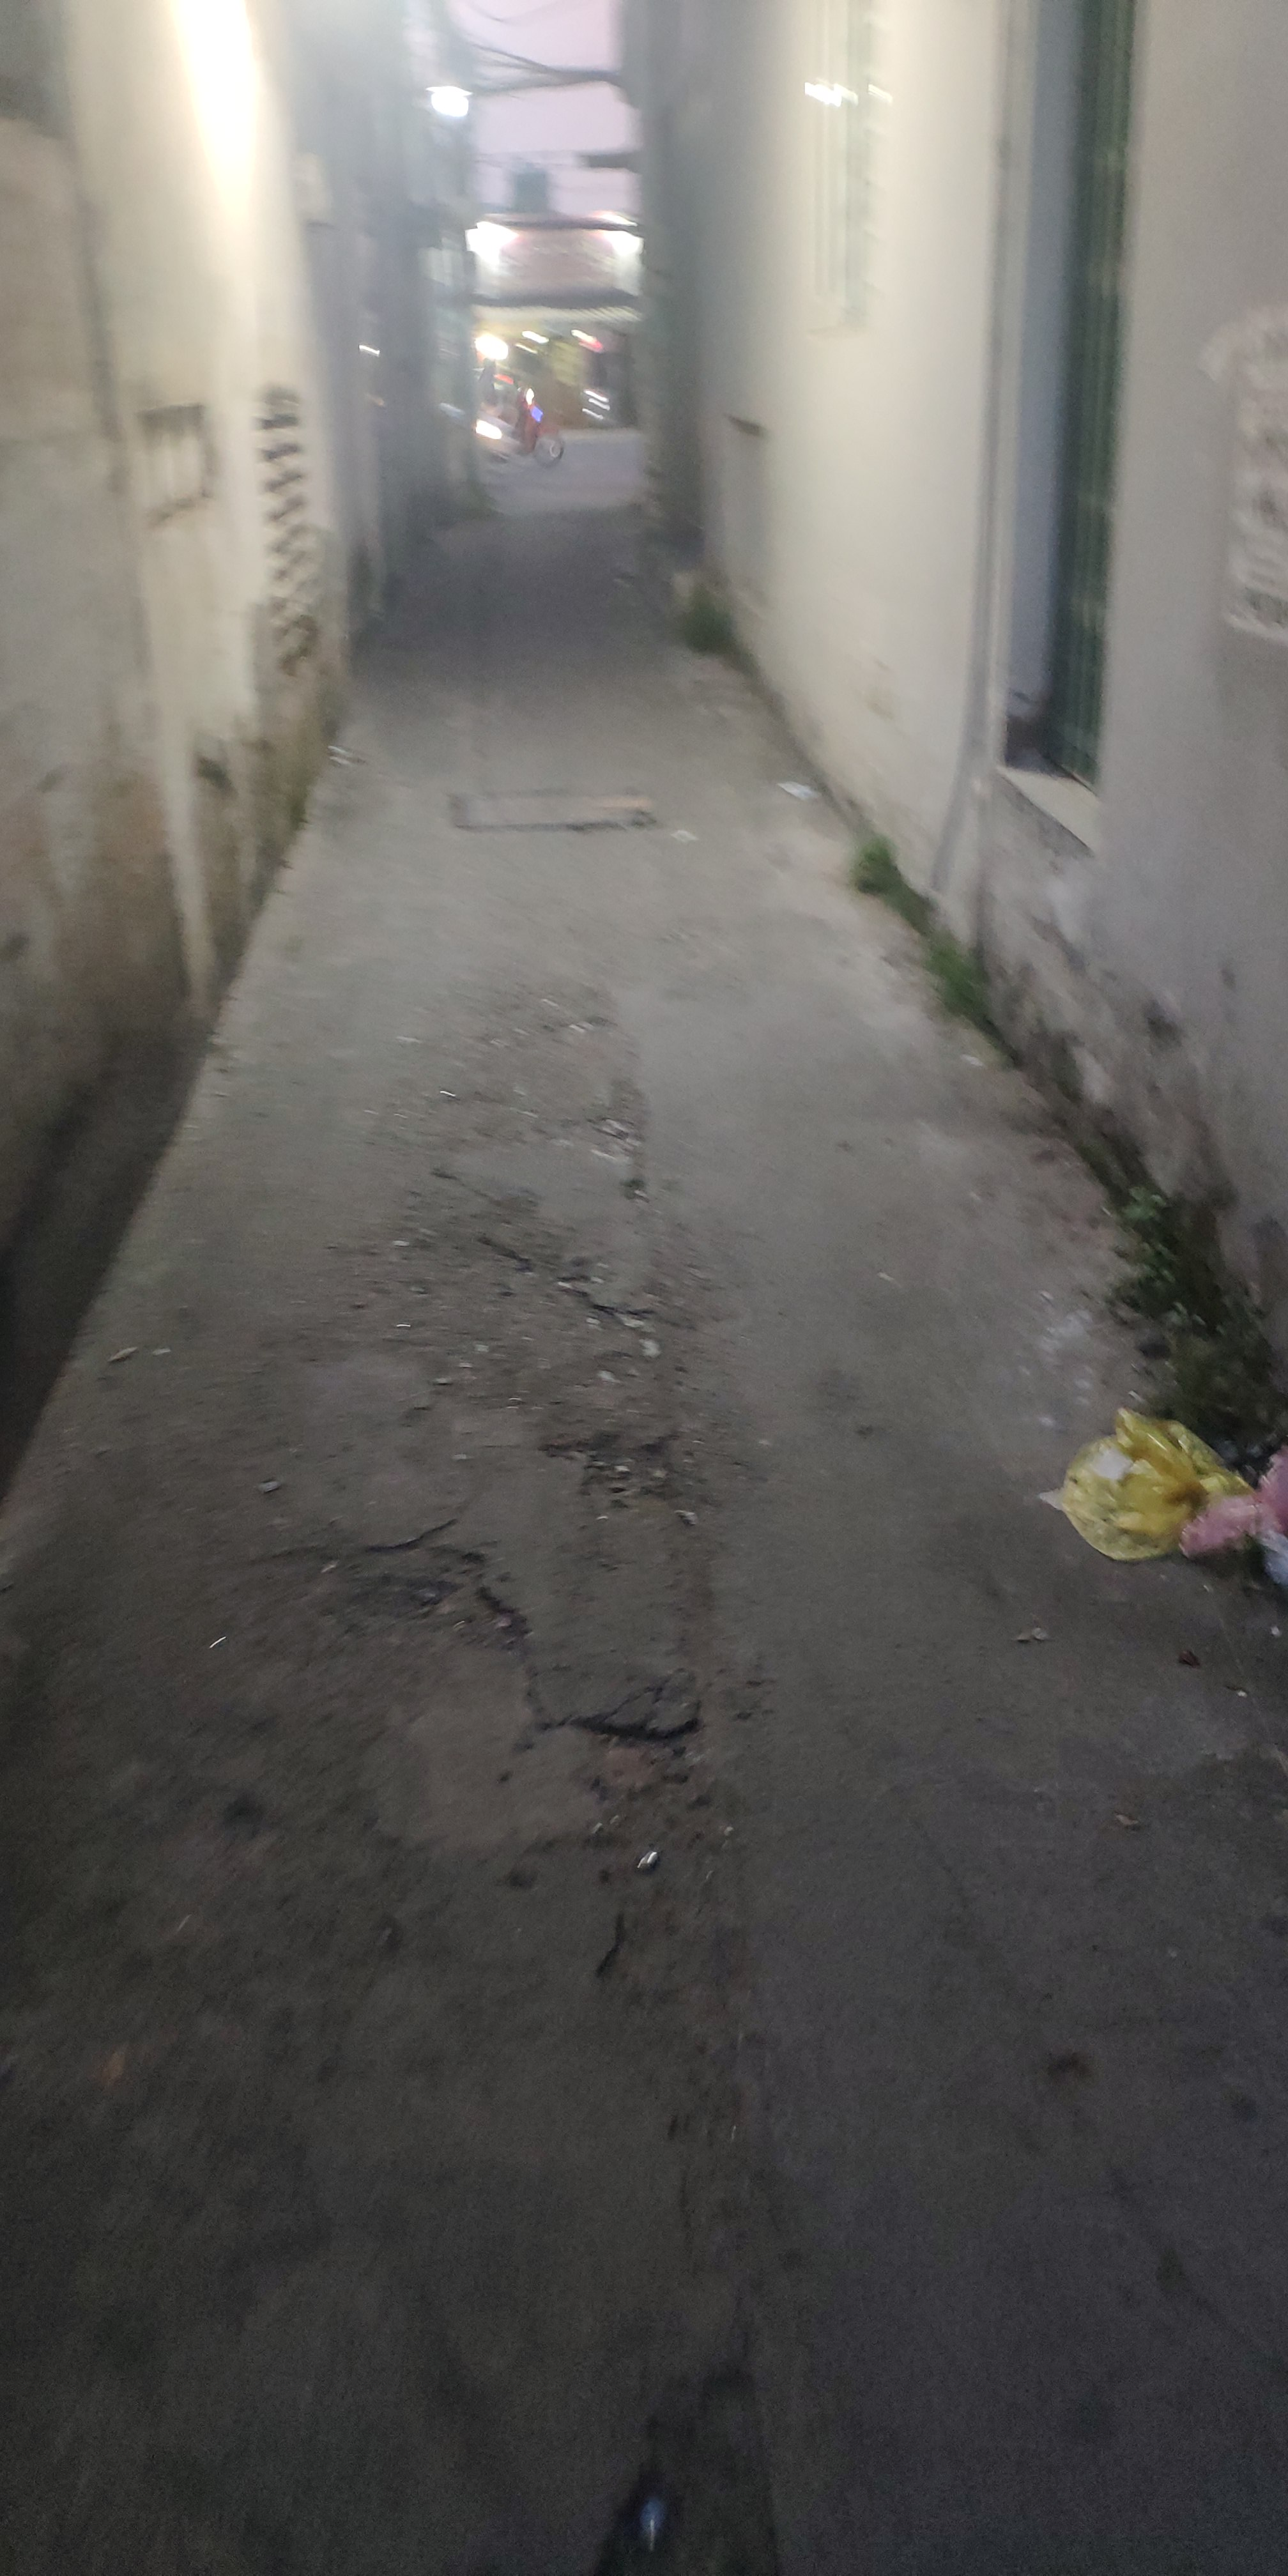hole: (532, 1690, 764, 2298), (383, 1244, 678, 1525), (286, 1531, 542, 1681), (540, 1069, 660, 1170), (614, 1166, 660, 1216)
